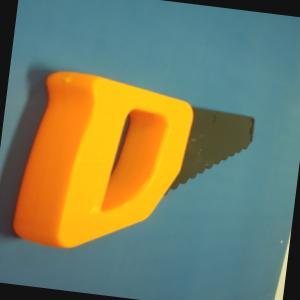serrote: (10, 66, 260, 272)
